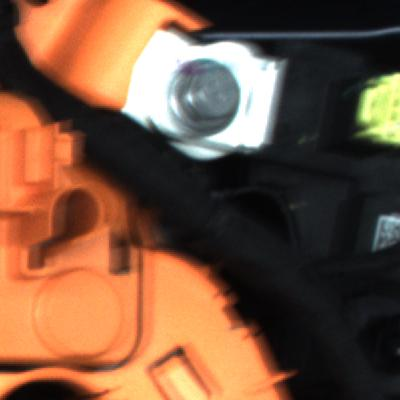nut_b: (161, 54, 248, 144)
